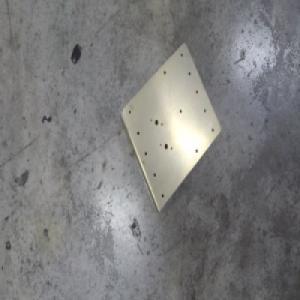MetalSheet: (118, 41, 222, 215)
